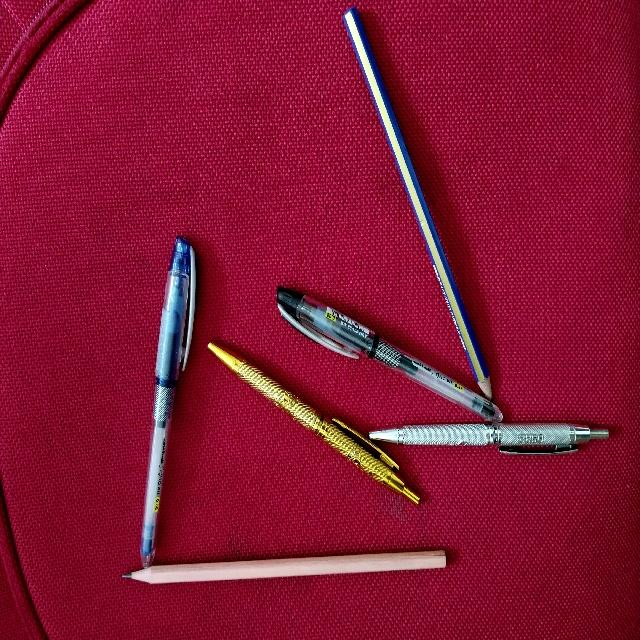pen: (277, 287, 502, 421), (141, 237, 195, 567)
pencil: (343, 7, 492, 399), (123, 550, 445, 583)
signature pen: (208, 343, 419, 503), (369, 424, 608, 453)
